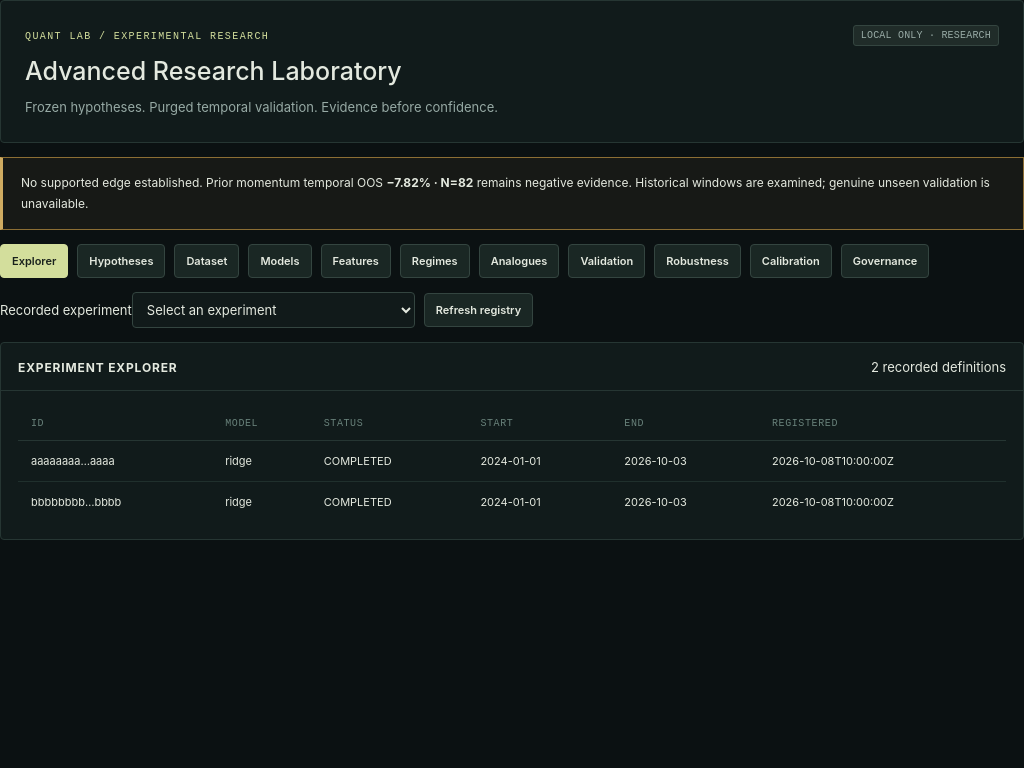
Test case: Advanced experimental Quant Lab › escapes hostile research text and displays probability unavailable
Step 1. Select "ridge · COMPLETED · aaaaaaaa…aaaa" in the dropdown labelled "Recorded experiment" → (273, 310), box [132, 292, 415, 328]
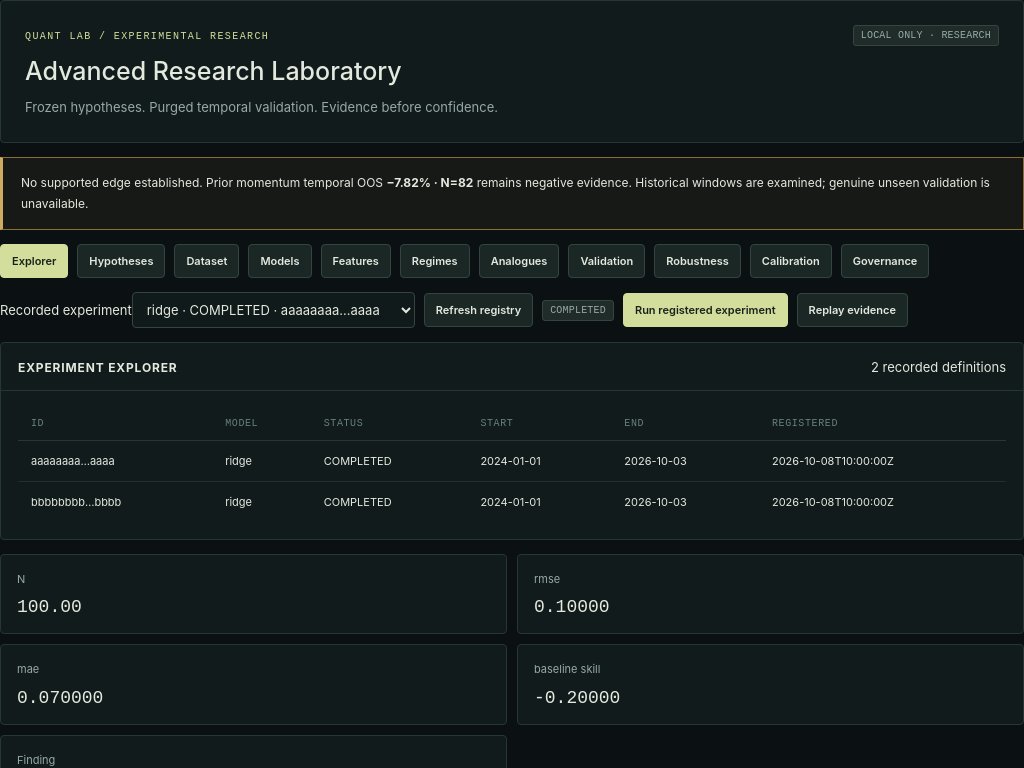
Step 2. Click the tab "Calibration" → (791, 261), box [750, 244, 832, 278]
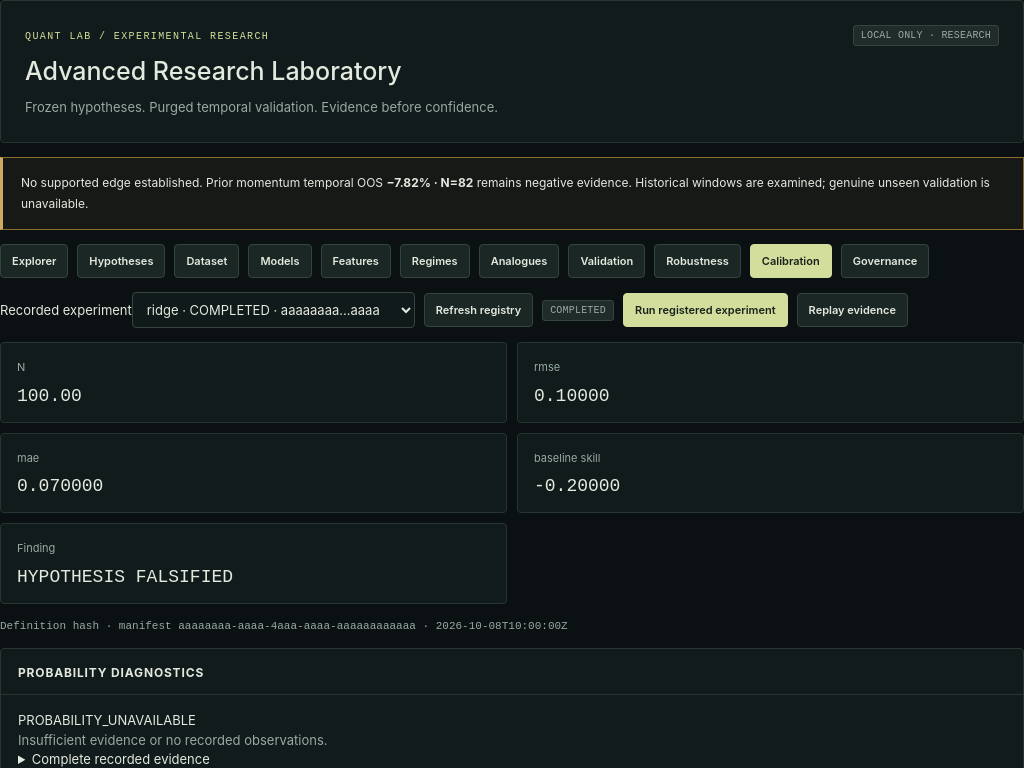
Result: the text "PROBABILITY_UNAVAILABLE" is shown at [18, 712, 196, 728]
